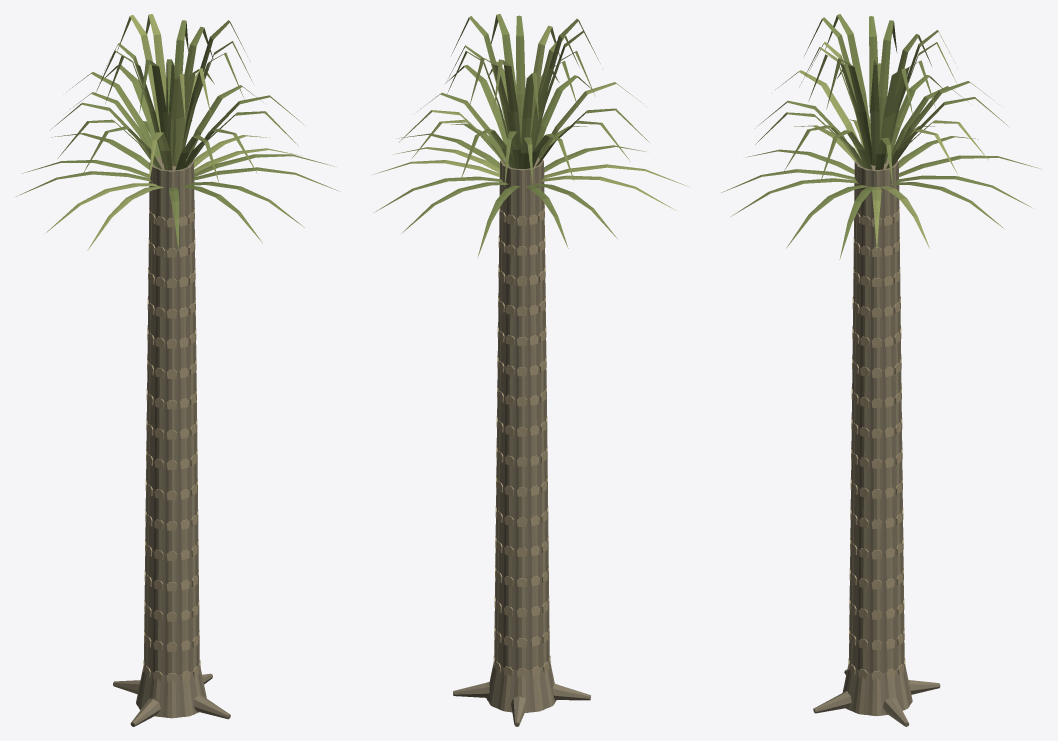
3 views of the same model, side by side, from view 1: azimuth 30°, elevation 25°; view 2: azimuth 150°, elevation 25°; view 3: azimuth 270°, elevation 25° (orthographic).
Parts seen in each view (by area): view 1: unbranched-twelve-rib-column-separated-leaf-scars, forty-two-simple-strap-microphylls; view 2: unbranched-twelve-rib-column-separated-leaf-scars, forty-two-simple-strap-microphylls; view 3: unbranched-twelve-rib-column-separated-leaf-scars, forty-two-simple-strap-microphylls.
Boxes of the visible parts, bbox=[...] form: unbranched-twelve-rib-column-separated-leaf-scars: bbox=[113, 156, 230, 726]; forty-two-simple-strap-microphylls: bbox=[16, 14, 339, 251]; unbranched-twelve-rib-column-separated-leaf-scars: bbox=[453, 157, 590, 726]; forty-two-simple-strap-microphylls: bbox=[373, 14, 688, 257]; unbranched-twelve-rib-column-separated-leaf-scars: bbox=[813, 156, 940, 726]; forty-two-simple-strap-microphylls: bbox=[721, 14, 1041, 259].
Size of the model in its own units: 3.07 by 6.83 by 3.
